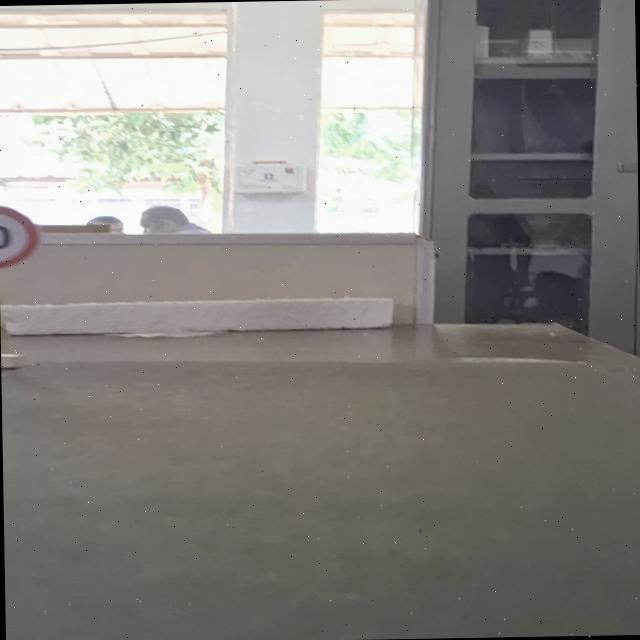Speed60: (0, 200, 43, 273)
